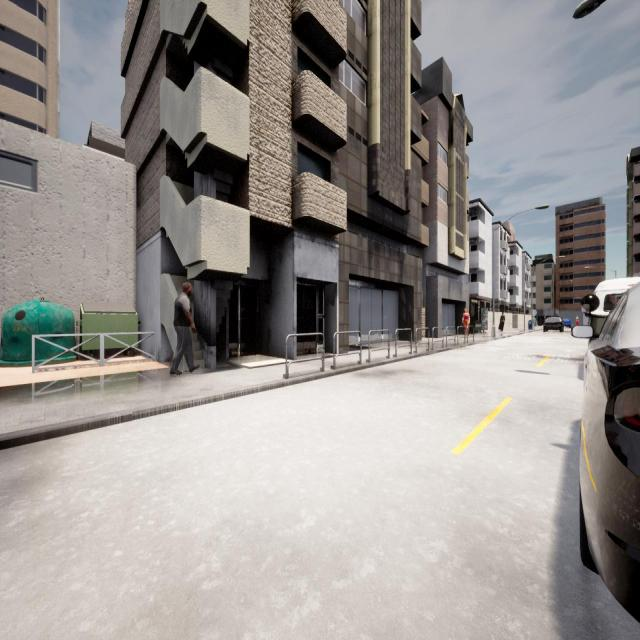Pedestrian: (172, 281, 198, 375), (462, 308, 470, 338), (499, 311, 506, 335), (576, 314, 580, 326)
Traffic_Signs: (532, 310, 537, 316)
Vehicle: (580, 282, 640, 621), (591, 276, 640, 333), (544, 316, 562, 332), (562, 318, 570, 328)
